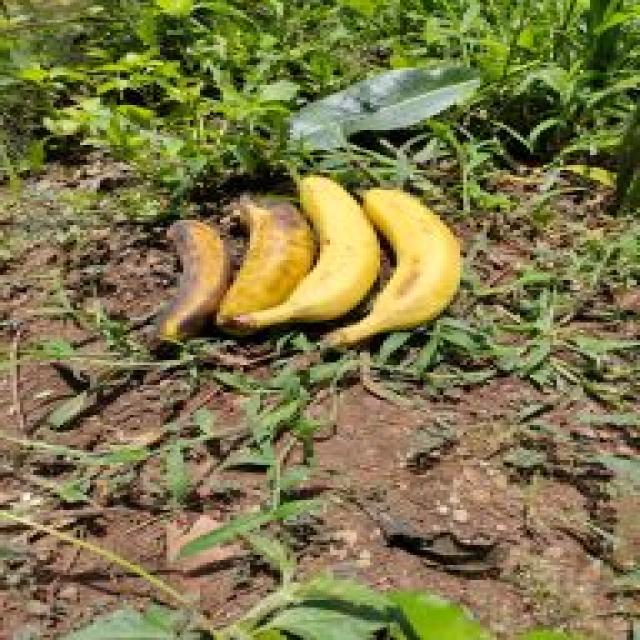Organik: (335, 175, 469, 356), (268, 165, 381, 342), (227, 185, 300, 320), (148, 212, 221, 344)
